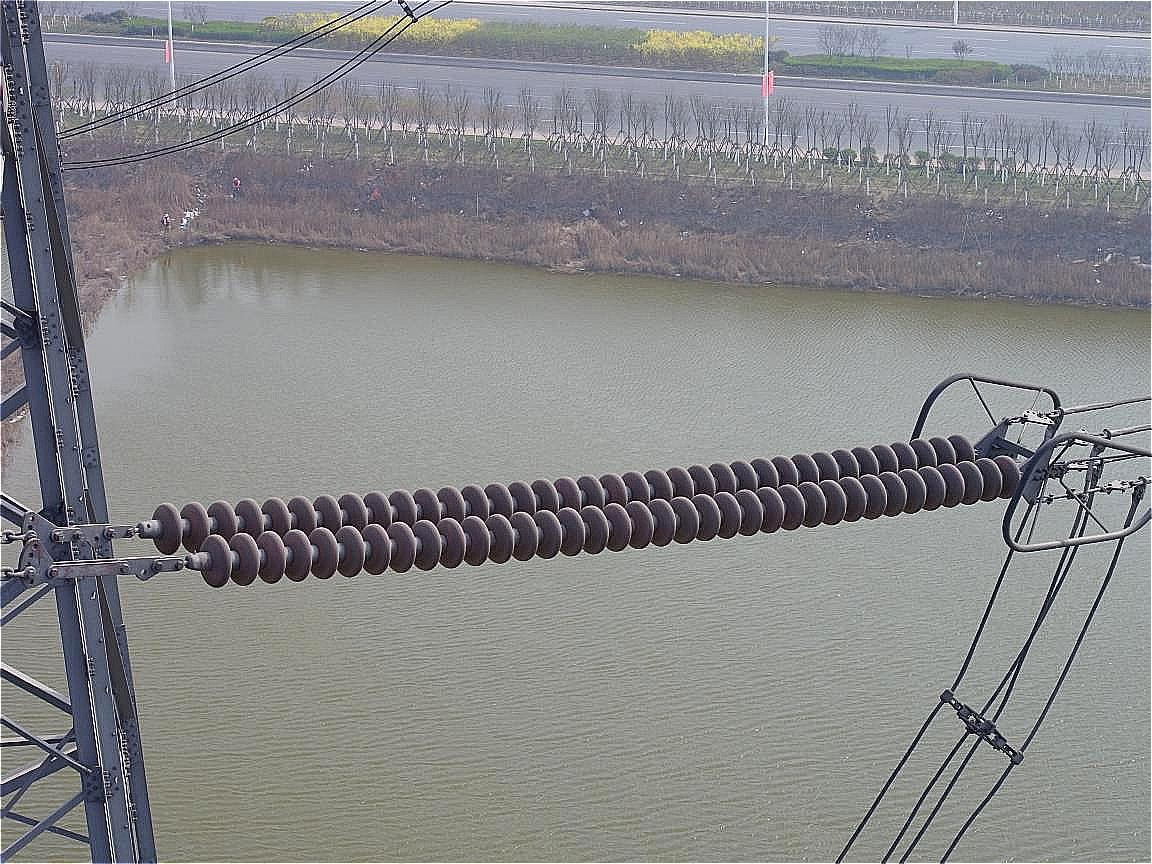insultor1: (87, 423, 1038, 599)
